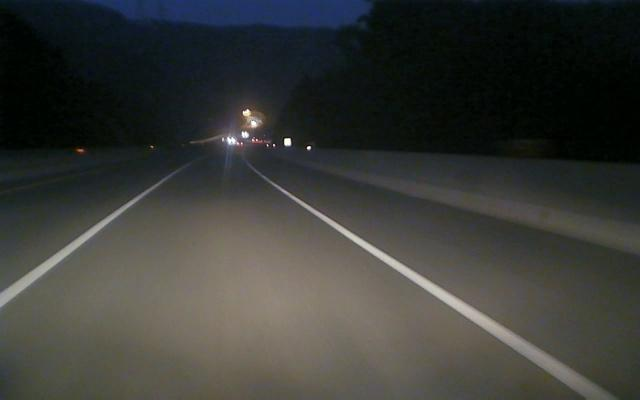lane: (272, 181, 629, 400), (0, 176, 169, 308)
